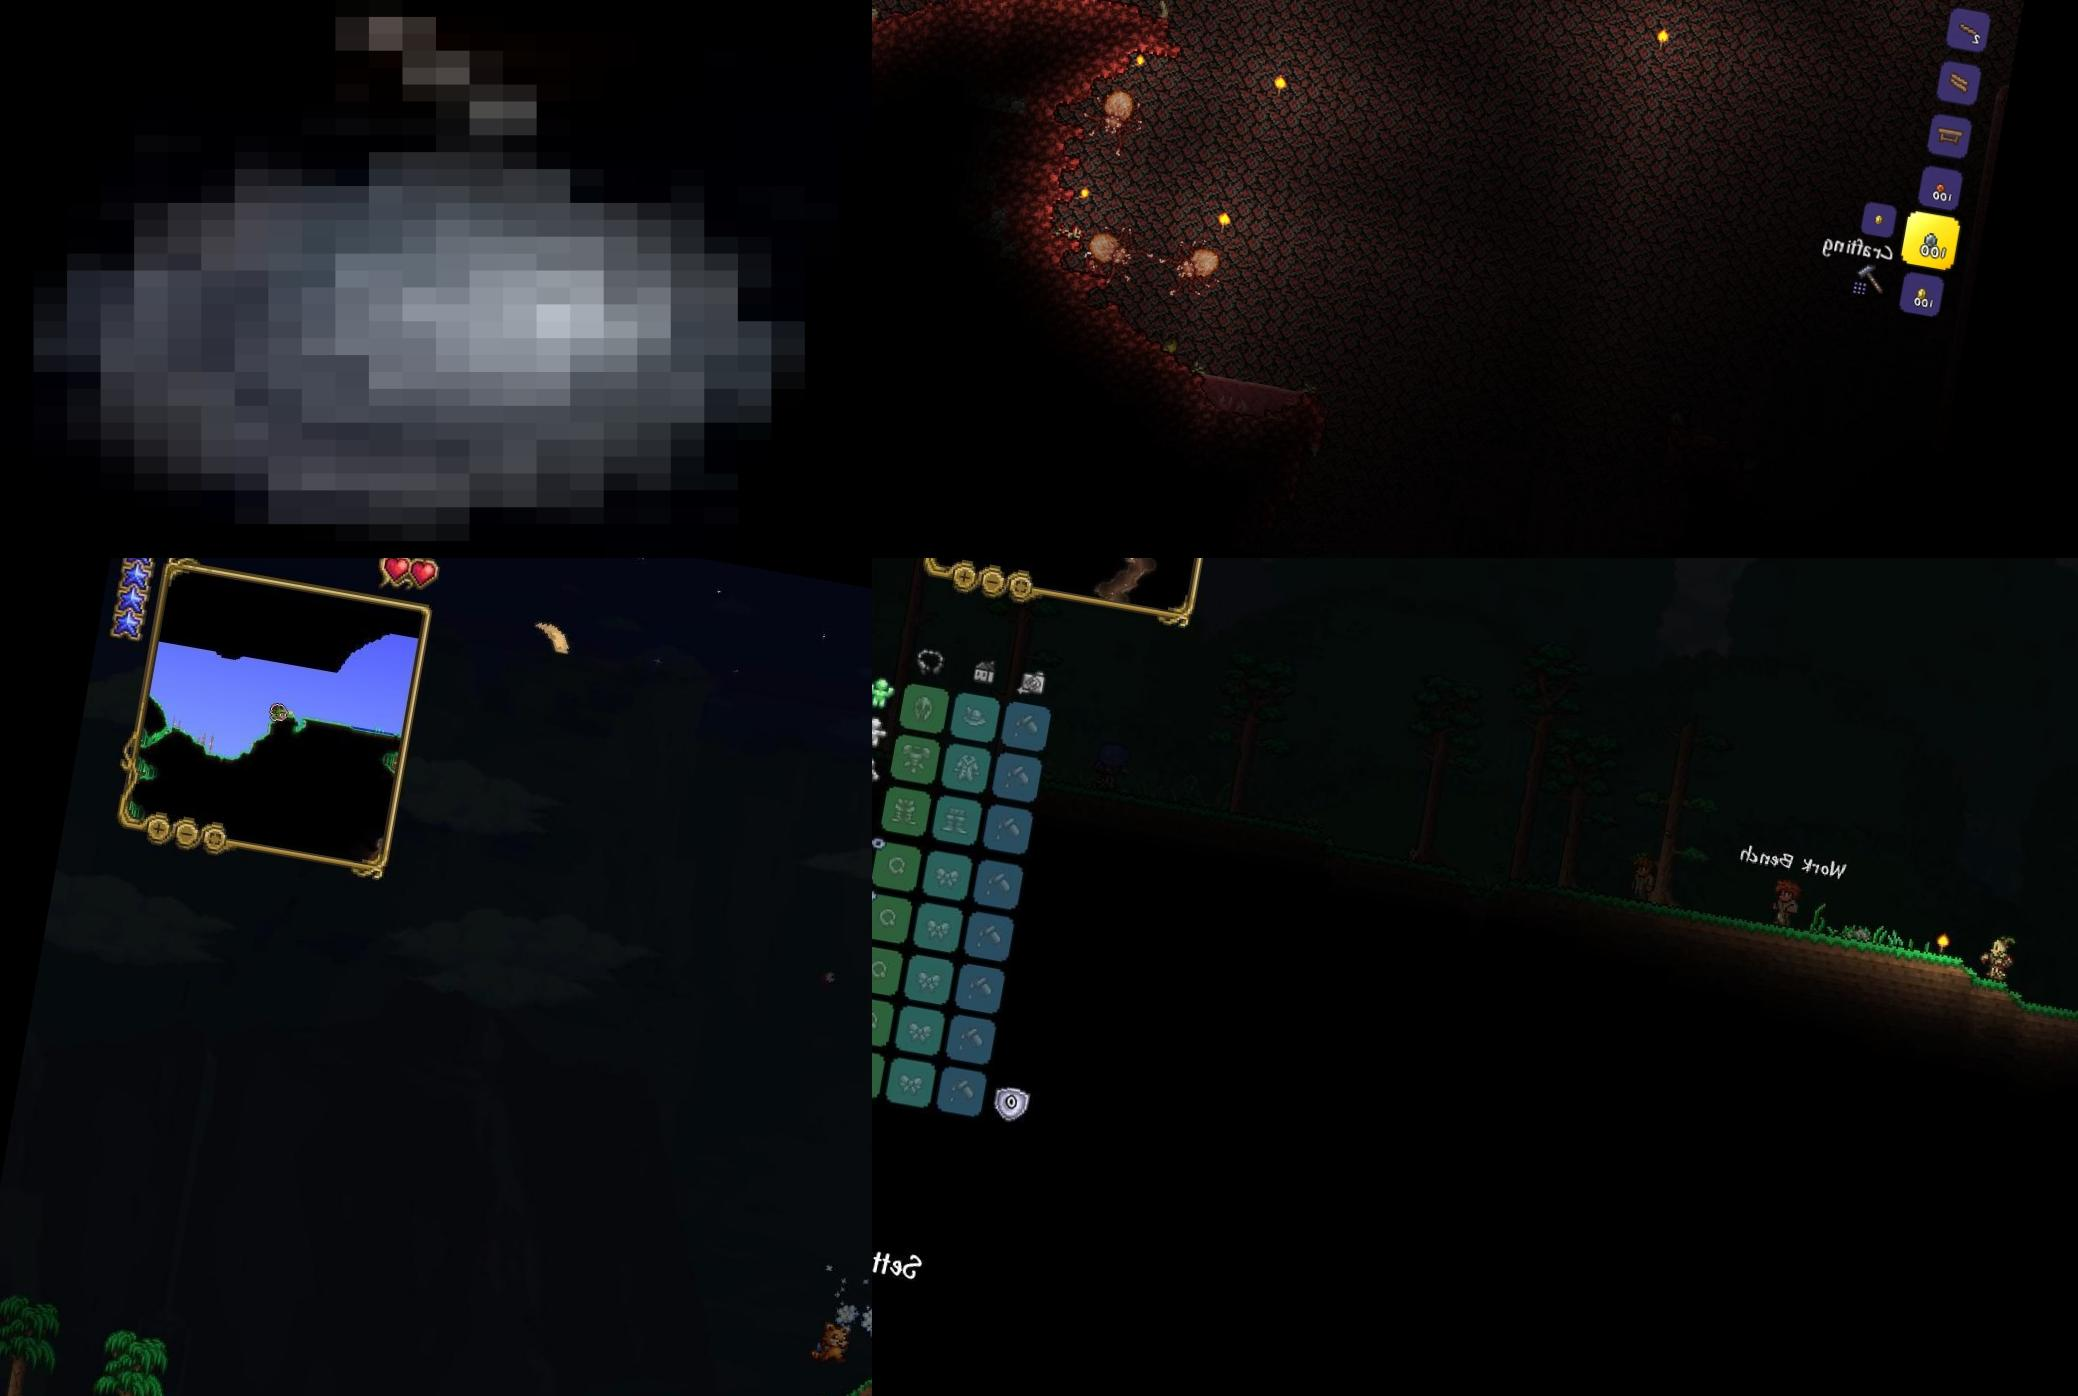bomb: (0, 0, 872, 558)
torchT: (1922, 918, 1956, 966)
